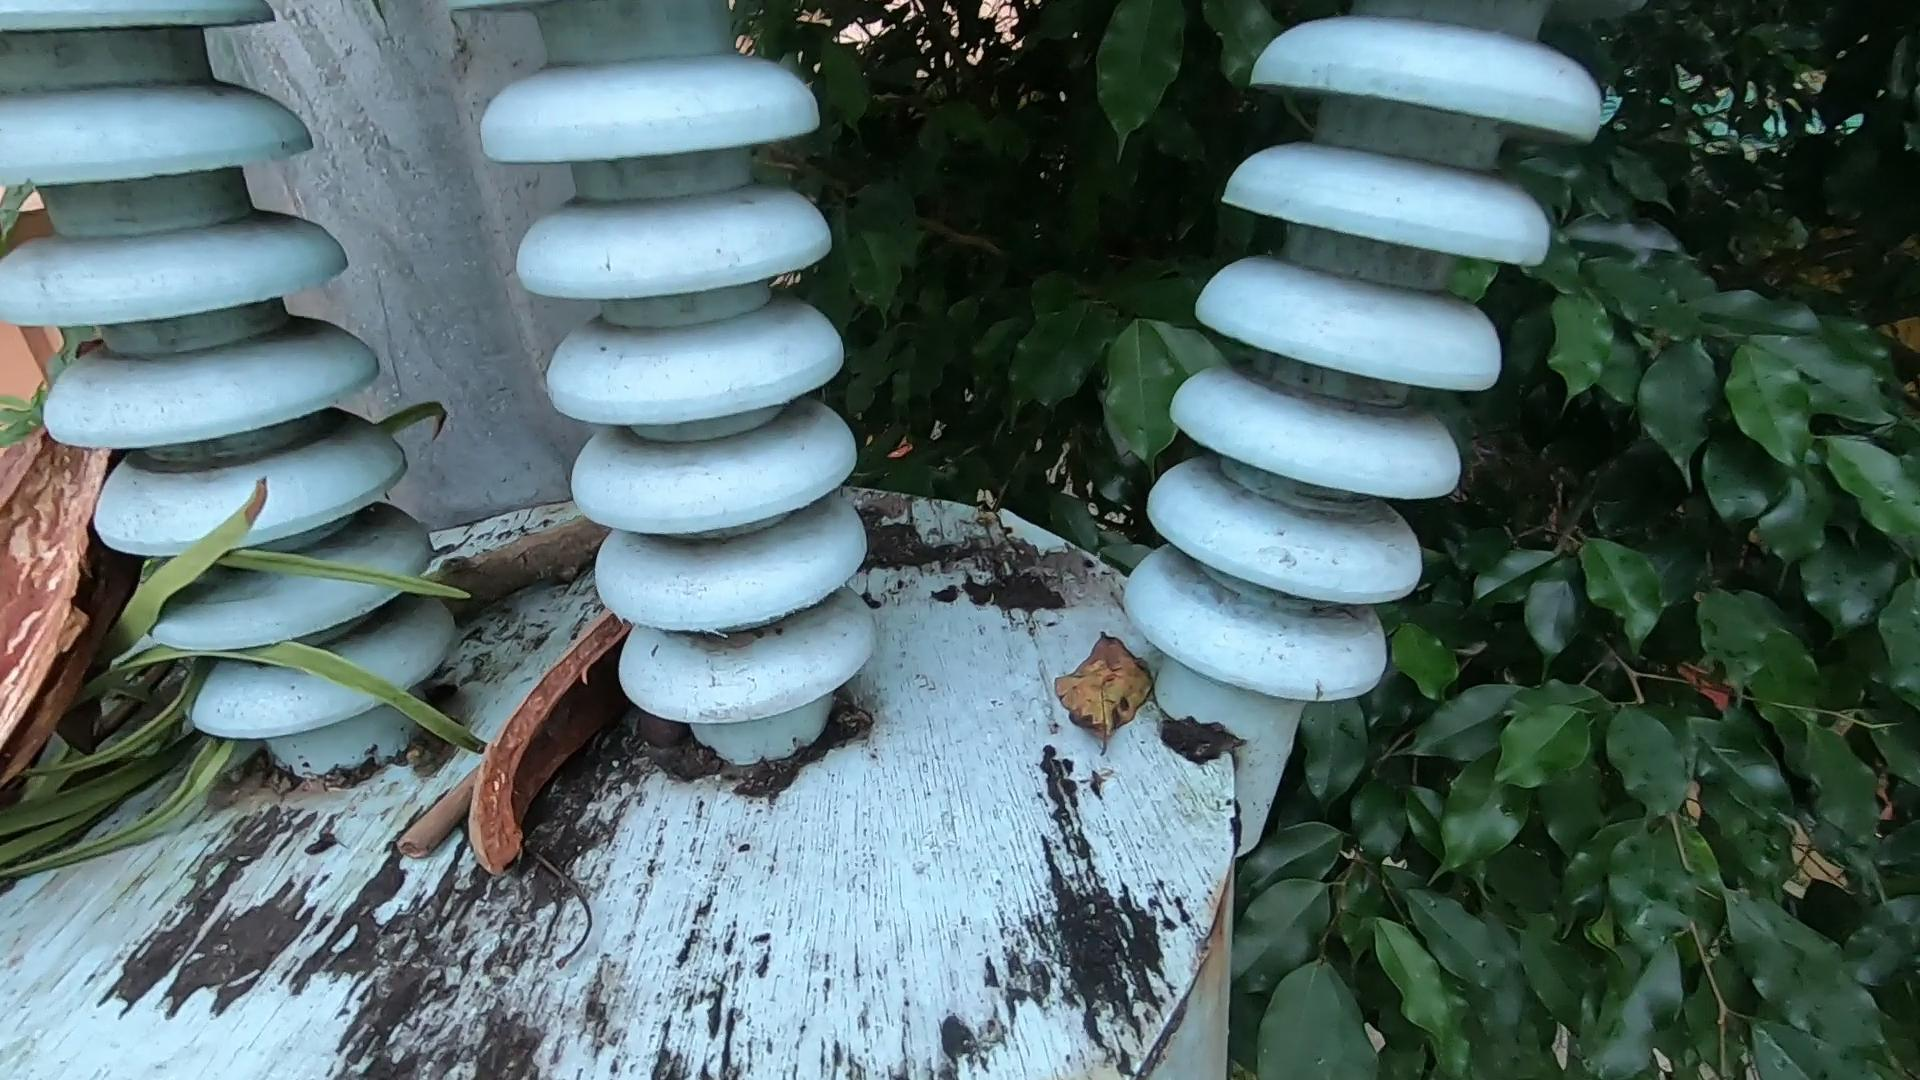branch with leaves: (1, 459, 735, 891)
leaf: (1035, 607, 1172, 771)
mahogany fruit: (1, 299, 203, 811), (501, 551, 741, 949)
tree branch: (368, 603, 742, 853)
